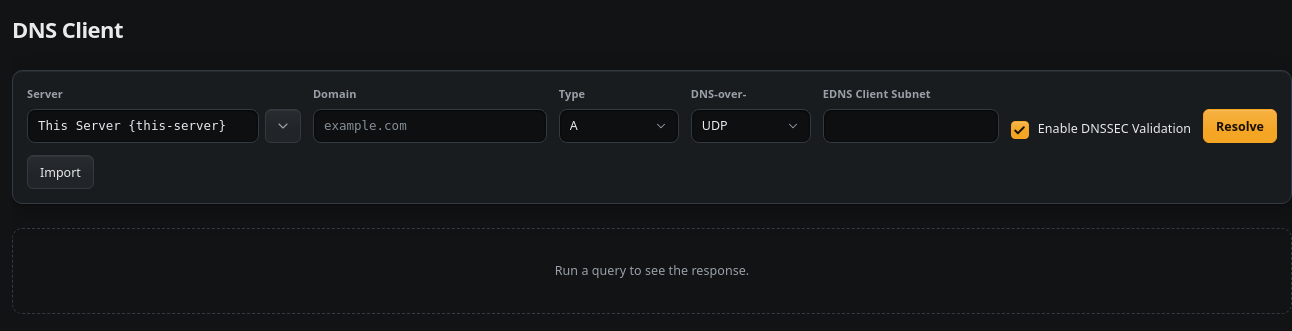
Test case: DNS Client: the server list › opens with every server, whatever the field already holds
Click the button named "Server list" at (283, 126), box [265,109,301,143]
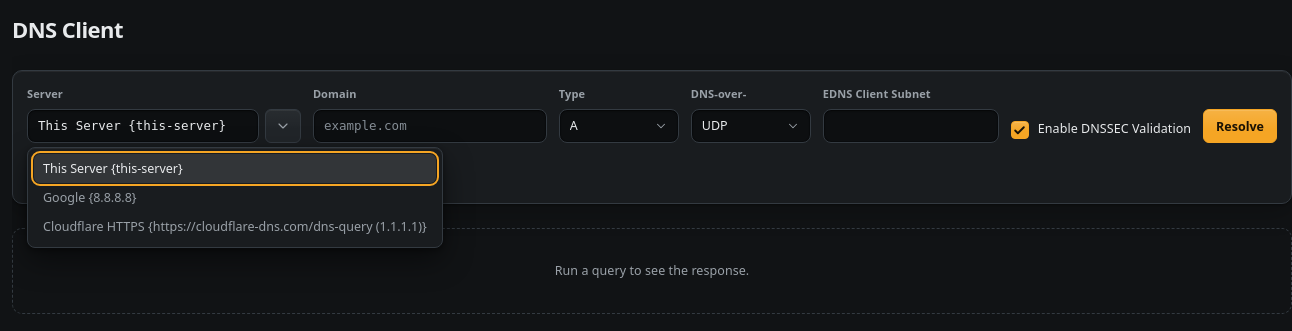
expect the menu items read "This Server {this-server}", "Google {8.8.8.8}", "Cloudflare HTTPS {https://cloudflare-dns.com/dns-query (1.1.1.1)}", in this order: met, box [34,154,436,183]; [34,183,436,212]; [34,212,436,241]
